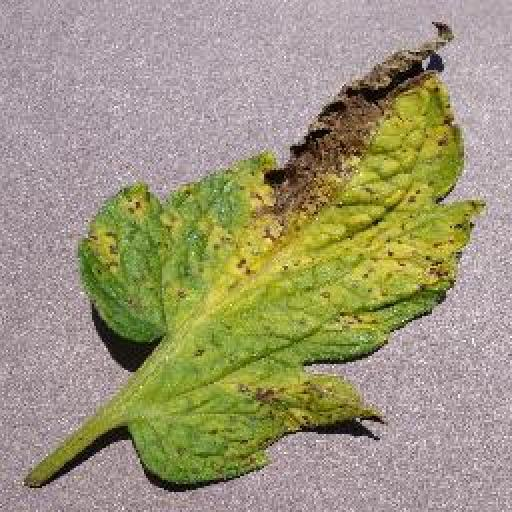Septoria: (81, 24, 488, 487)
